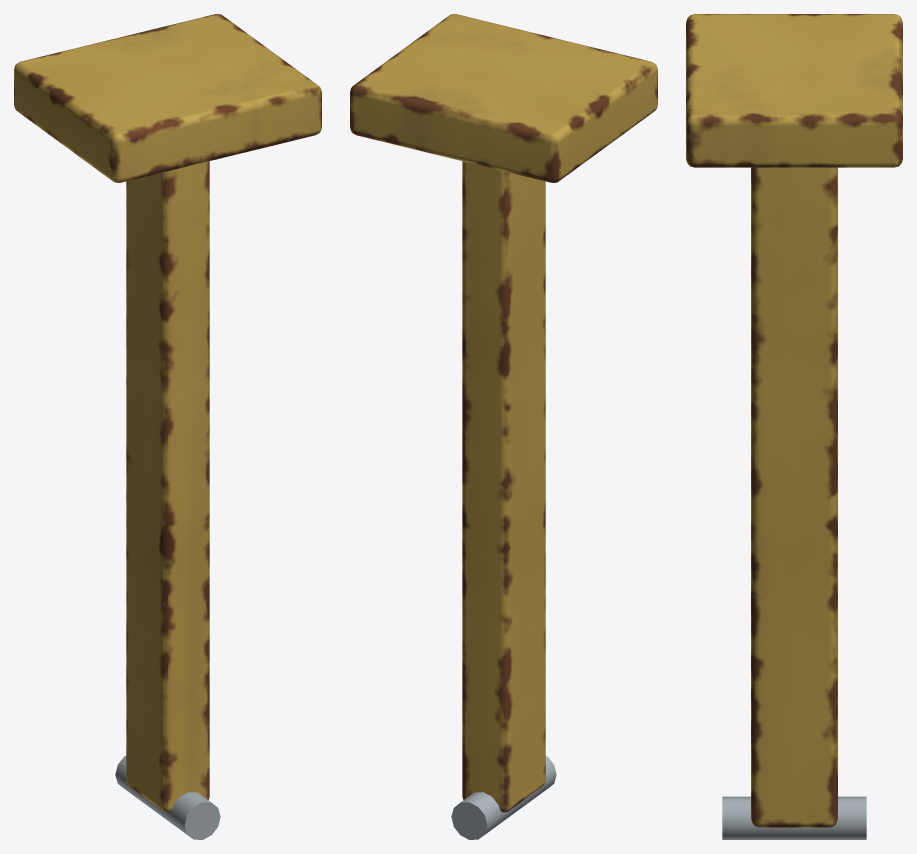
The model's file is provision_rope_anchor.glb.
The picture shows the model from 3 angles, left to right: view 1: azimuth 30°, elevation 25°; view 2: azimuth 150°, elevation 25°; view 3: azimuth 270°, elevation 25°; orthographic projection. The views are drawn at different scales.
Parts seen in each view (by area): view 1: provision_rope_anchor; view 2: provision_rope_anchor; view 3: provision_rope_anchor.
Part boxes in pixels (x1,y1,x2,y2): provision_rope_anchor: [14, 14, 321, 839]; provision_rope_anchor: [350, 14, 657, 839]; provision_rope_anchor: [686, 14, 902, 839].
Size of the model in its own units: 0.35 by 1.18 by 0.3.
Materials: 2 (1 with a texture image).
